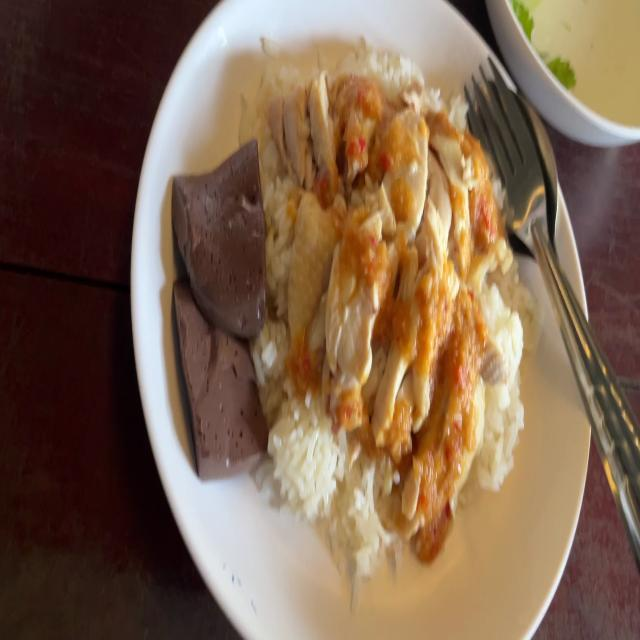boiled_chicken: (270, 79, 488, 482)
boiled_chicken_blood_jelly: (174, 140, 264, 339), (168, 285, 260, 475)
chicken_rice: (176, 23, 519, 569)
